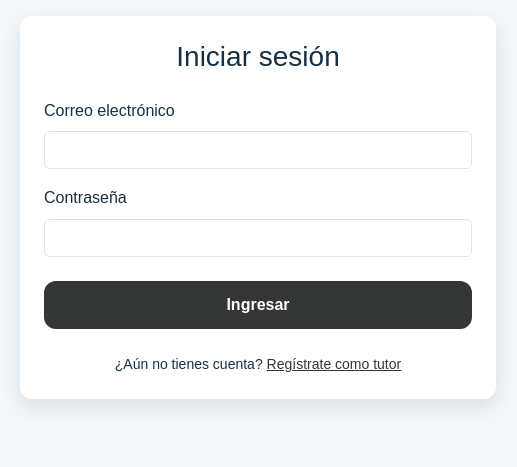
Login › si el servidor no responde muestra su mensaje
This screenshot has width=517, height=467.
Type "ana@correo.cl" into the field labelled "Correo electrónico" at [258, 150], box x1=44 y1=131 x2=472 y2=169
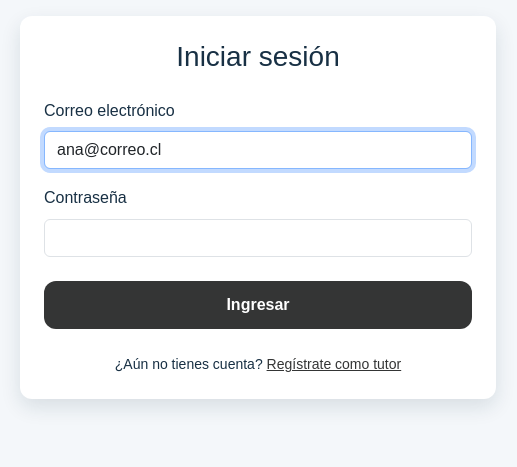
Type "secreto1" into the password field labelled "Contraseña" at [258, 238], box x1=44 y1=219 x2=472 y2=257
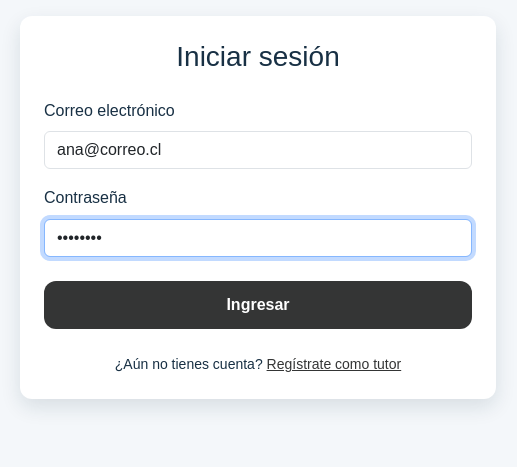
Click the button "Ingresar" at [258, 305], box x1=44 y1=281 x2=472 y2=329
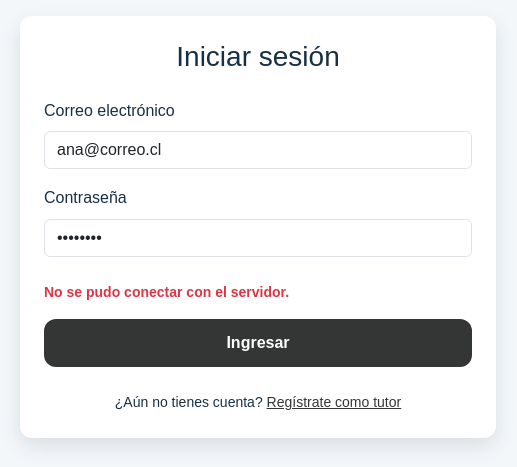
Expected: the message reads "No se pudo conectar con el servidor.", x1=44 y1=284 x2=289 y2=300
